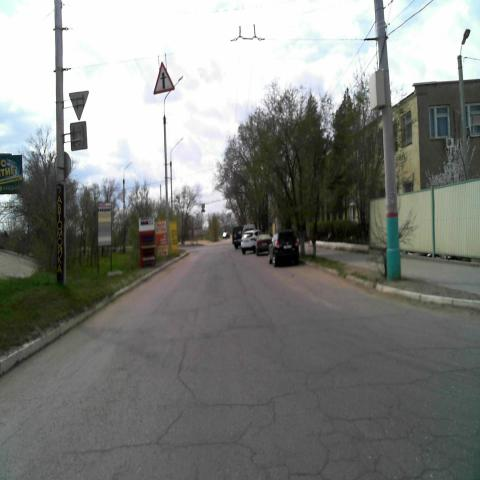2_3: (153, 60, 175, 95)
